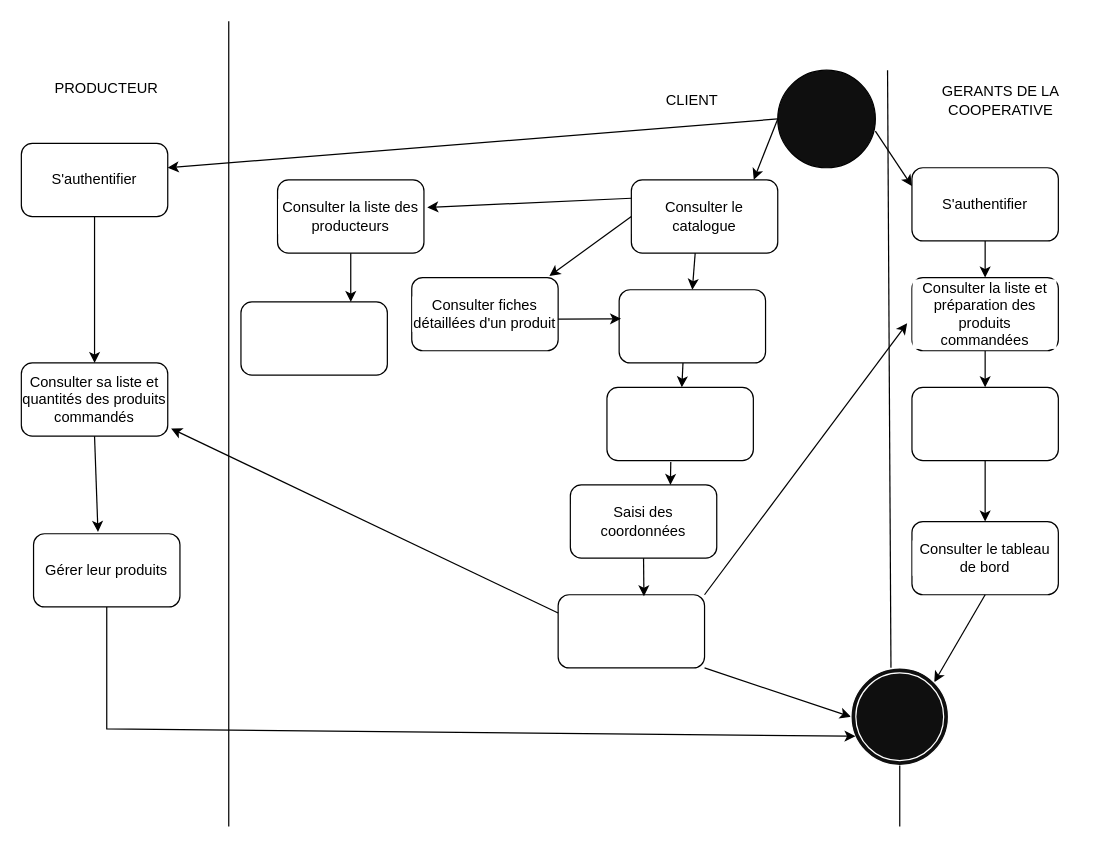
This 1099x849 diagram has some shape labels left out. Here are the shapes that lost their labels. From the top down, the box of each, then its label:
(240, 301, 387, 375): Consulter la fiche d'un producteur
(618, 289, 766, 363): Ajouter/Retirer un produit au panier
(606, 386, 753, 461): Confirmer la commande
(911, 386, 1058, 461): Enregistrer la livraison/paiement
(557, 594, 705, 668): Valider commande
